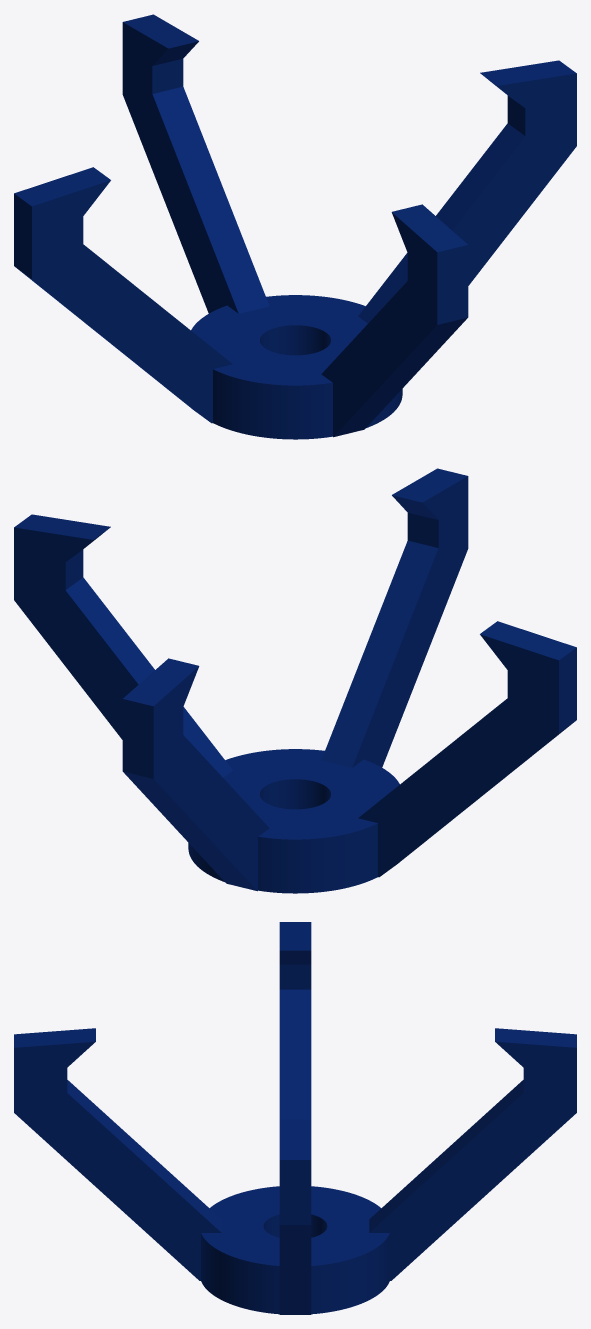
Rendered from motor_holder.glb.
The picture shows the model from 3 angles, top to bottom: view 1: azimuth 30°, elevation 25°; view 2: azimuth 150°, elevation 25°; view 3: azimuth 270°, elevation 25°; orthographic projection. The views are drawn at different scales.
Parts seen in each view (by area): view 1: Part 1; view 2: Part 1; view 3: Part 1.
Boxes of the visible parts, x1,y1,x2,y2 form: Part 1: (14, 14, 576, 439); Part 1: (14, 468, 576, 893); Part 1: (14, 922, 576, 1314).
Size of the model in its own units: 0.0529 by 0.0248 by 0.0529.
